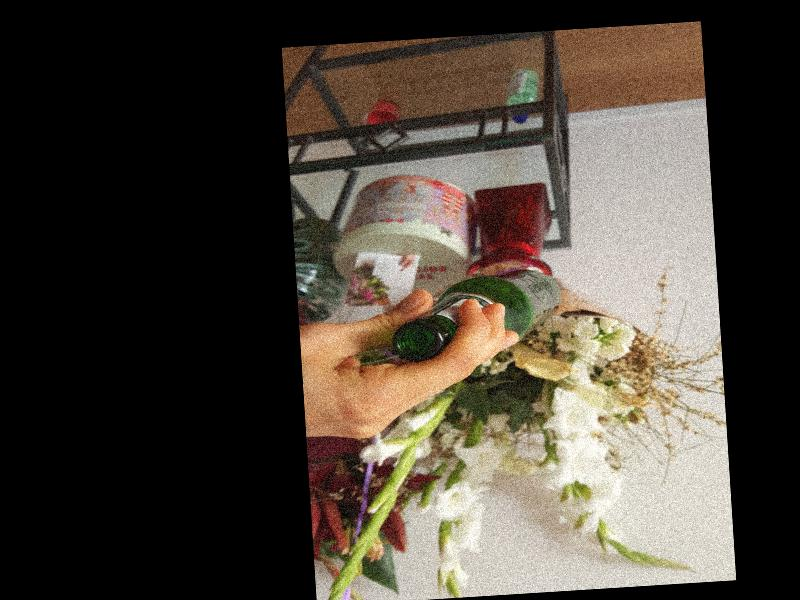Beer: (389, 266, 564, 361)
